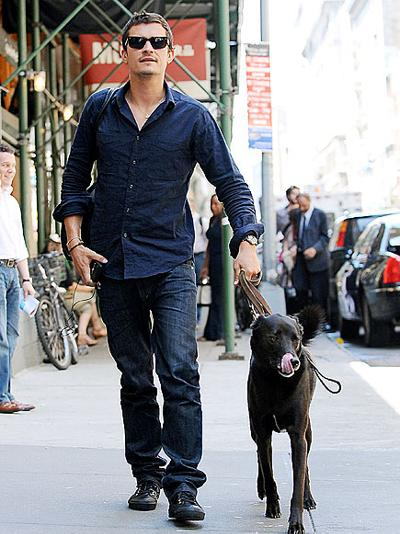person: (61, 12, 259, 525)
